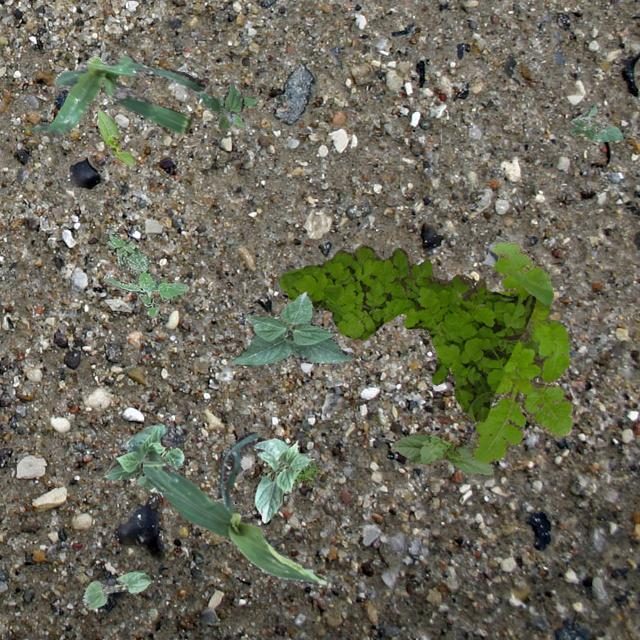crop: (142, 430, 326, 586), (28, 52, 204, 134), (230, 290, 354, 366), (102, 422, 182, 490), (252, 436, 312, 522), (390, 432, 492, 474), (82, 570, 150, 608), (96, 109, 132, 164), (570, 104, 622, 140)
weed: (278, 244, 534, 421), (470, 240, 572, 462), (101, 230, 188, 316), (195, 80, 258, 128), (262, 462, 321, 487)
